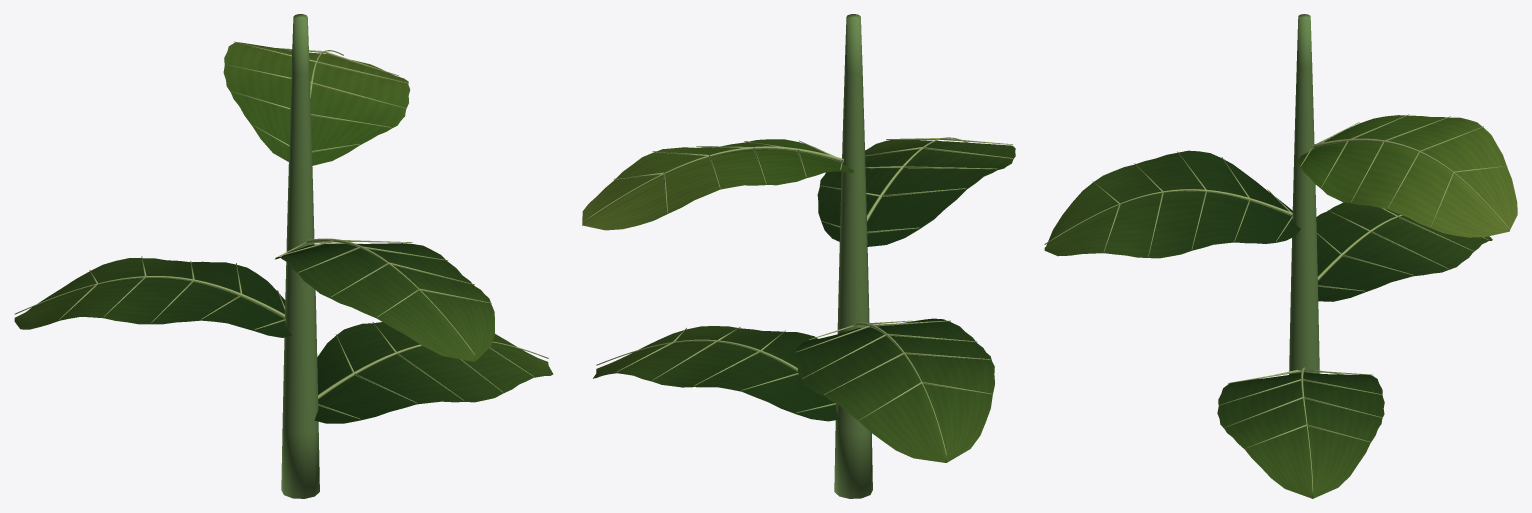
Rendered from bellflower-03.glb.
3 renders of one model, left to right at view 1: azimuth 30°, elevation 25°; view 2: azimuth 150°, elevation 25°; view 3: azimuth 270°, elevation 25°, orthographic. The views are drawn at different scales.
Parts seen in each view (by area): view 1: bellflower_stage_03_leaf_veins.004, bellflower_stage_03_young_leaf.004, bellflower_stage_03_stem_fibres.004, bellflower_stage_03_raised_midveins.004; view 2: bellflower_stage_03_leaf_veins.004, bellflower_stage_03_young_leaf.004, bellflower_stage_03_stem_fibres.004, bellflower_stage_03_raised_midveins.004; view 3: bellflower_stage_03_leaf_veins.004, bellflower_stage_03_young_leaf.004, bellflower_stage_03_stem_fibres.004, bellflower_stage_03_raised_midveins.004.
Part boxes in pixels (box(x1,y1,x2,y2)): bellflower_stage_03_leaf_veins.004: box(14, 243, 553, 423); bellflower_stage_03_young_leaf.004: box(223, 42, 410, 165); bellflower_stage_03_stem_fibres.004: box(281, 14, 319, 498); bellflower_stage_03_raised_midveins.004: box(14, 41, 548, 419); bellflower_stage_03_leaf_veins.004: box(593, 140, 1015, 462); bellflower_stage_03_young_leaf.004: box(582, 139, 853, 230); bellflower_stage_03_stem_fibres.004: box(834, 14, 872, 498); bellflower_stage_03_raised_midveins.004: box(582, 137, 1013, 455); bellflower_stage_03_leaf_veins.004: box(1044, 150, 1492, 498); bellflower_stage_03_young_leaf.004: box(1296, 115, 1517, 237); bellflower_stage_03_stem_fibres.004: box(1289, 14, 1319, 374); bellflower_stage_03_raised_midveins.004: box(1044, 114, 1509, 491).
Size of the model in its own units: 0.1074 by 0.1076 by 0.1086.
4 materials, 2 textured.
